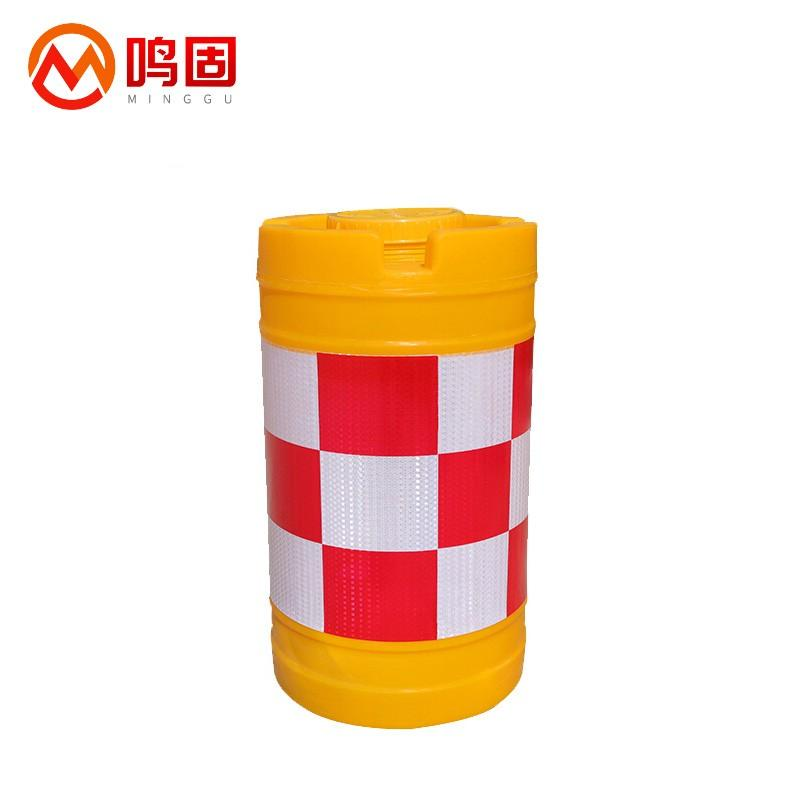sign: (242, 188, 551, 730)
